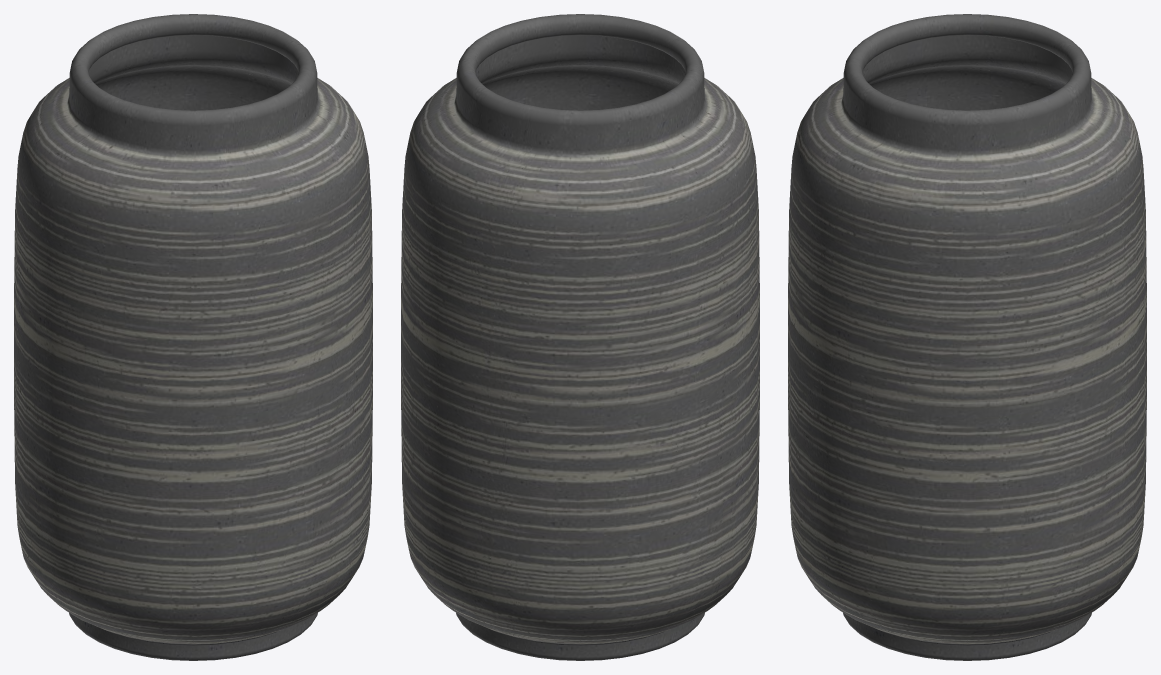
Rendered from B07QFB5MW6.glb.
3 views of the same model, side by side, from view 1: azimuth 30°, elevation 25°; view 2: azimuth 150°, elevation 25°; view 3: azimuth 270°, elevation 25° (orthographic).
Visible parts, largest first — view 1: RootNode; view 2: RootNode; view 3: RootNode.
Boxes of the visible parts, x1,y1,x2,y2 form: RootNode: [14, 14, 372, 660]; RootNode: [401, 14, 759, 660]; RootNode: [788, 14, 1146, 660].
Bounding box in the file's own units: 0.2968 × 0.4987 × 0.2968.
Materials: 1 (1 with a texture image).
